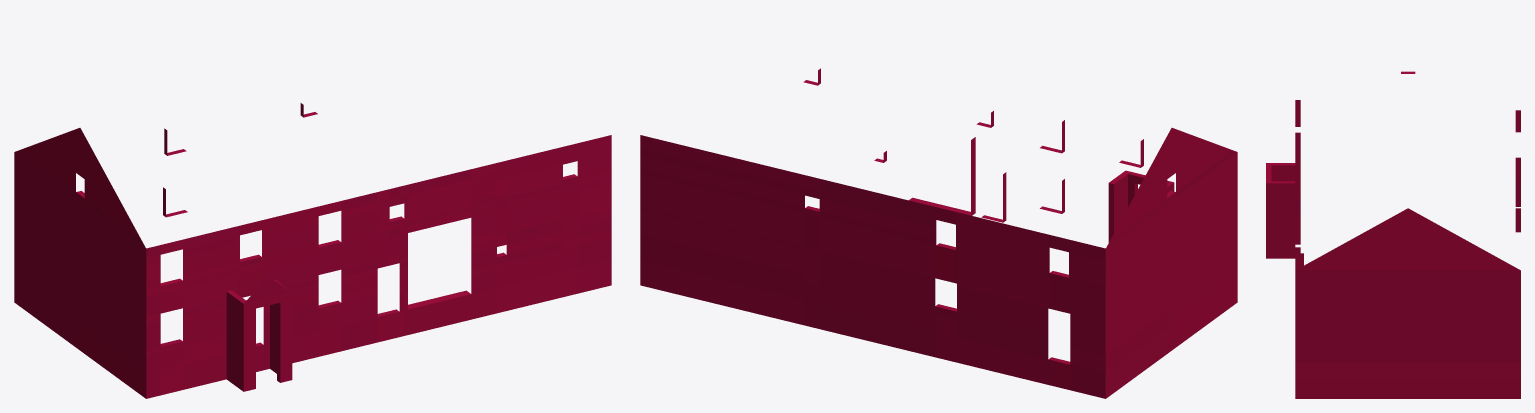
The model's file is SM_Bld_114_Masonry.glb.
3 views of the same model, side by side, from view 1: azimuth 30°, elevation 25°; view 2: azimuth 150°, elevation 25°; view 3: azimuth 270°, elevation 25° (orthographic). The views are drawn at different scales.
Visible parts, largest first — view 1: SM_Bld_114_Masonry; view 2: SM_Bld_114_Masonry; view 3: SM_Bld_114_Masonry.
Boxes of the visible parts, bbox=[...] form: SM_Bld_114_Masonry: bbox=[14, 103, 611, 398]; SM_Bld_114_Masonry: bbox=[640, 68, 1237, 398]; SM_Bld_114_Masonry: bbox=[1266, 71, 1520, 398].
Size of the model in its own units: 19.1 by 8.75 by 10.59.
